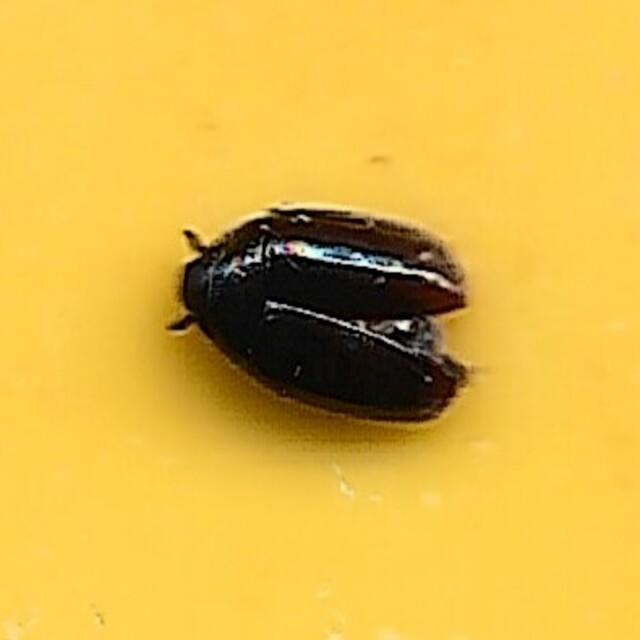Coleoptera: (162, 199, 478, 441)
